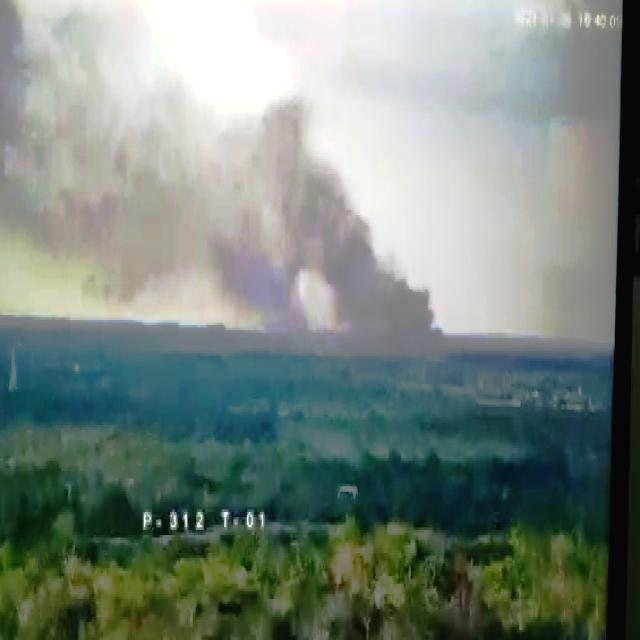asap: (1, 1, 453, 372)
